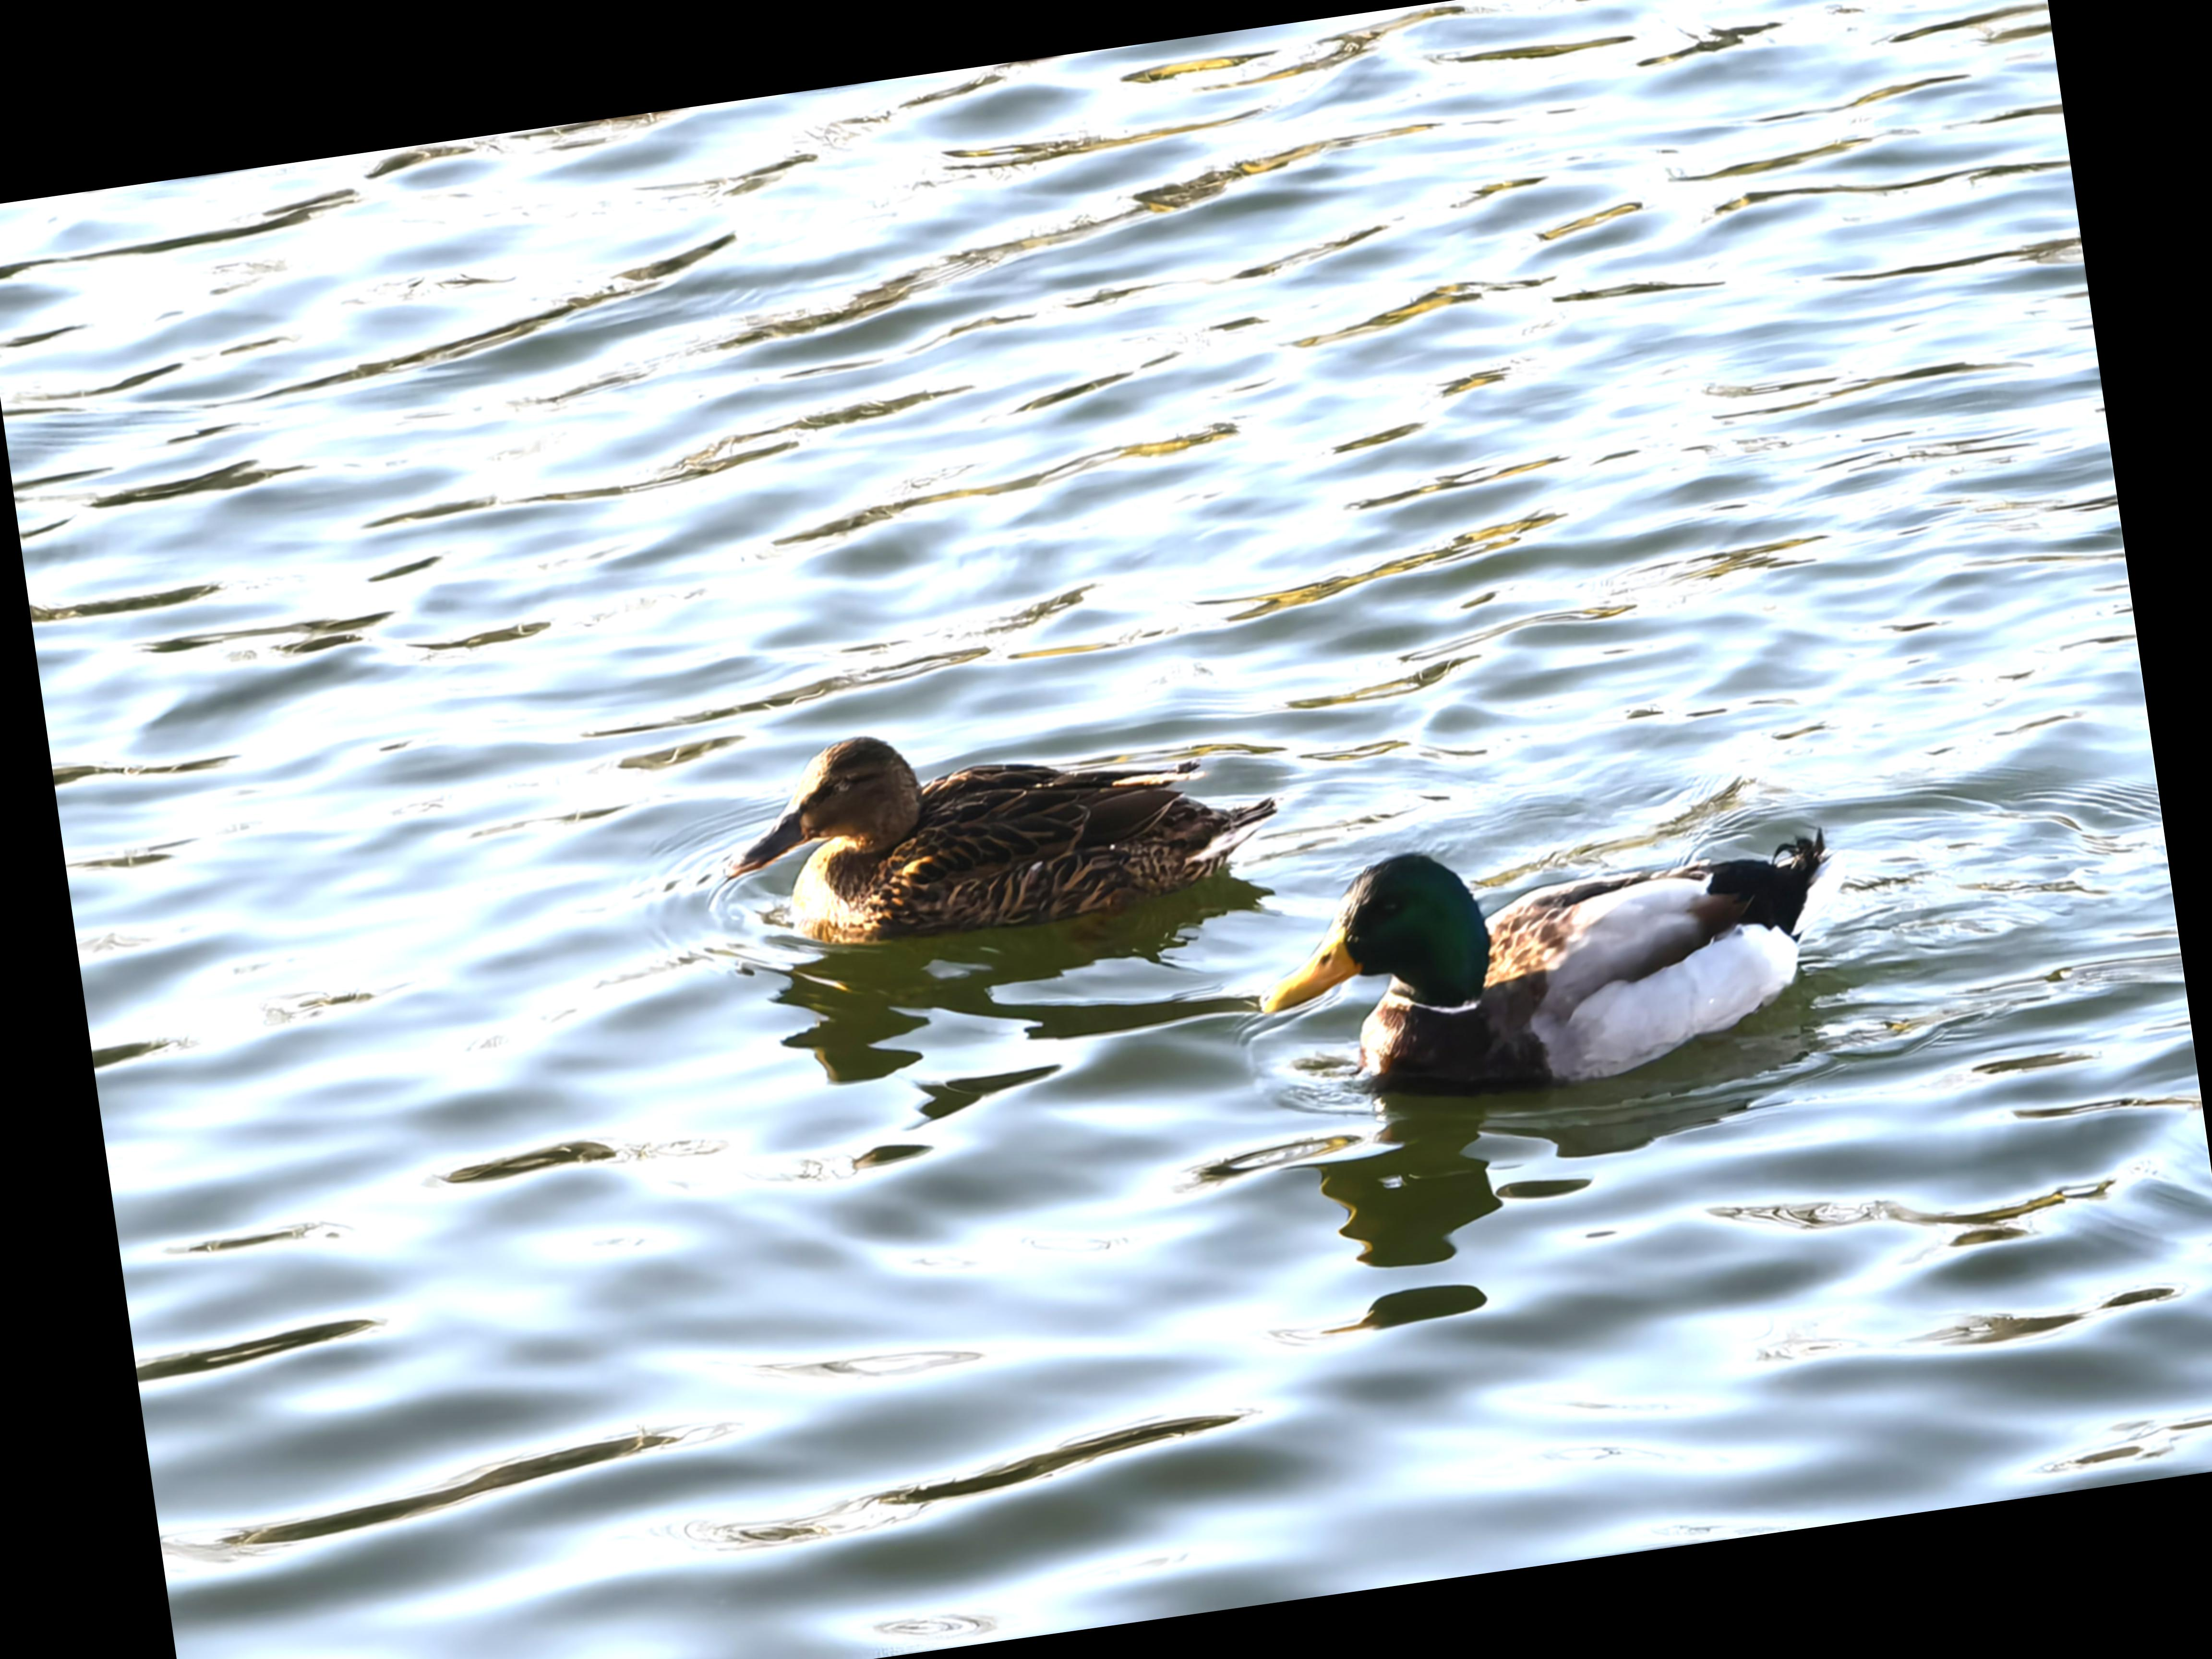duck: (1224, 760, 1900, 1161), (697, 660, 1306, 1000)
